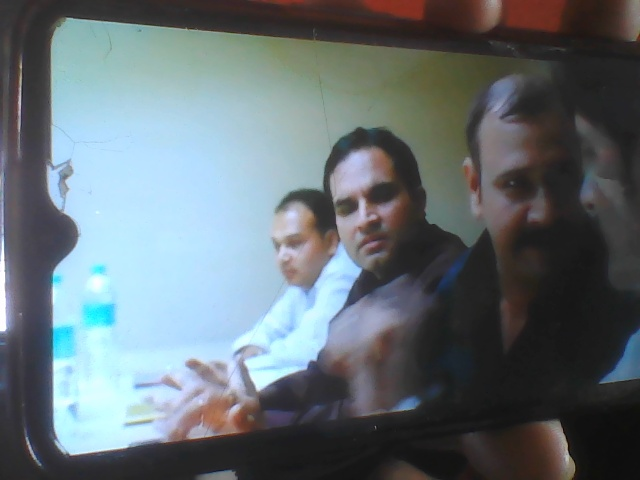fake: (310, 108, 434, 284)
